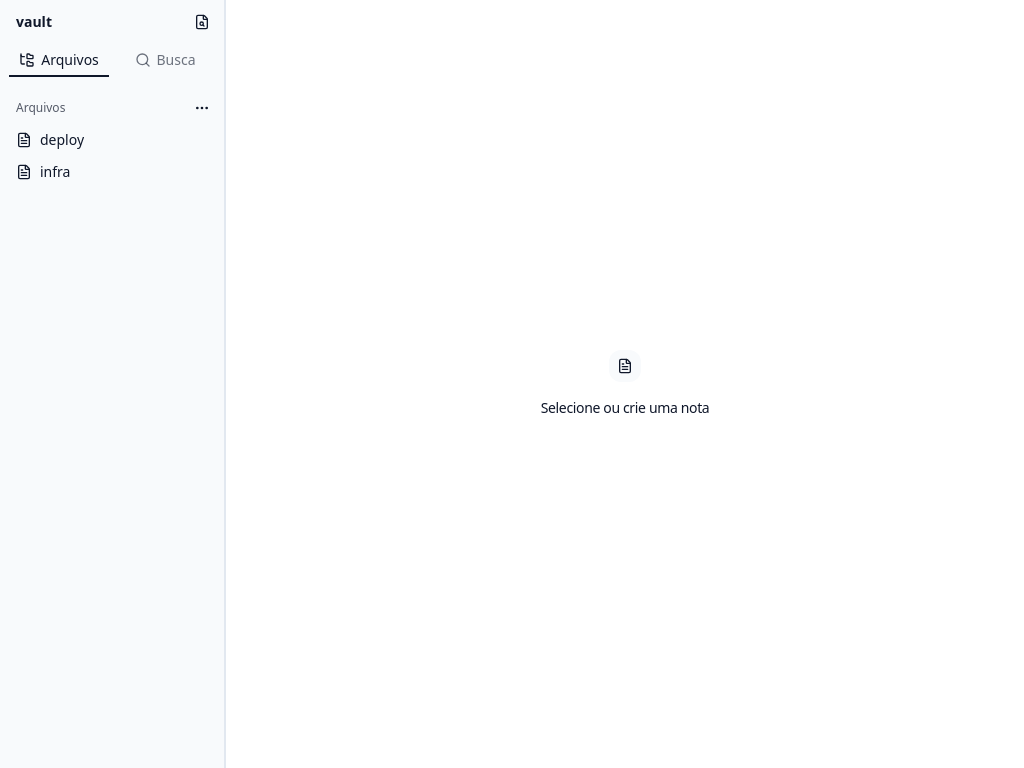
Scenario: busca rápida no workspace › o botão abre a busca rápida e mostra o atalho
This screenshot has width=1024, height=768.
Expected: the navigation bar named "Arquivos do vault" is shown, [8,124,216,188]
Hover over the button named "Abrir nota pelo nome" at (202, 22), box [188,8,216,36]
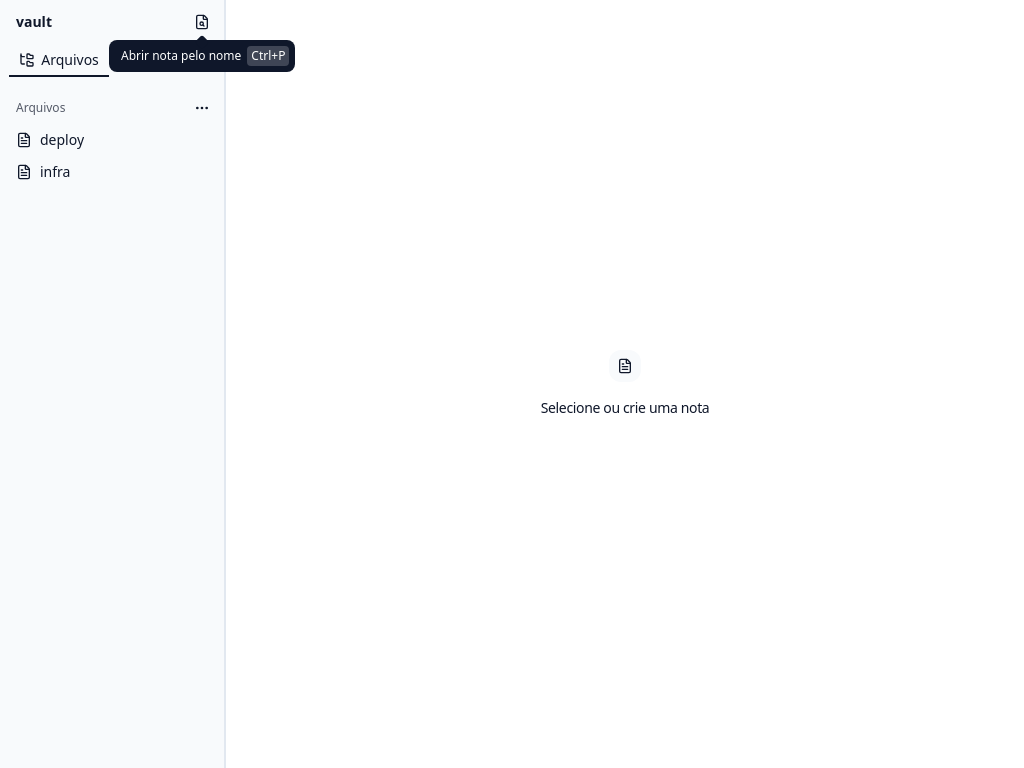
Expected: the text "Ctrl+P" is shown, [247,46,289,66]
Click the button named "Abrir nota pelo nome" at (202, 22), box [188,8,216,36]
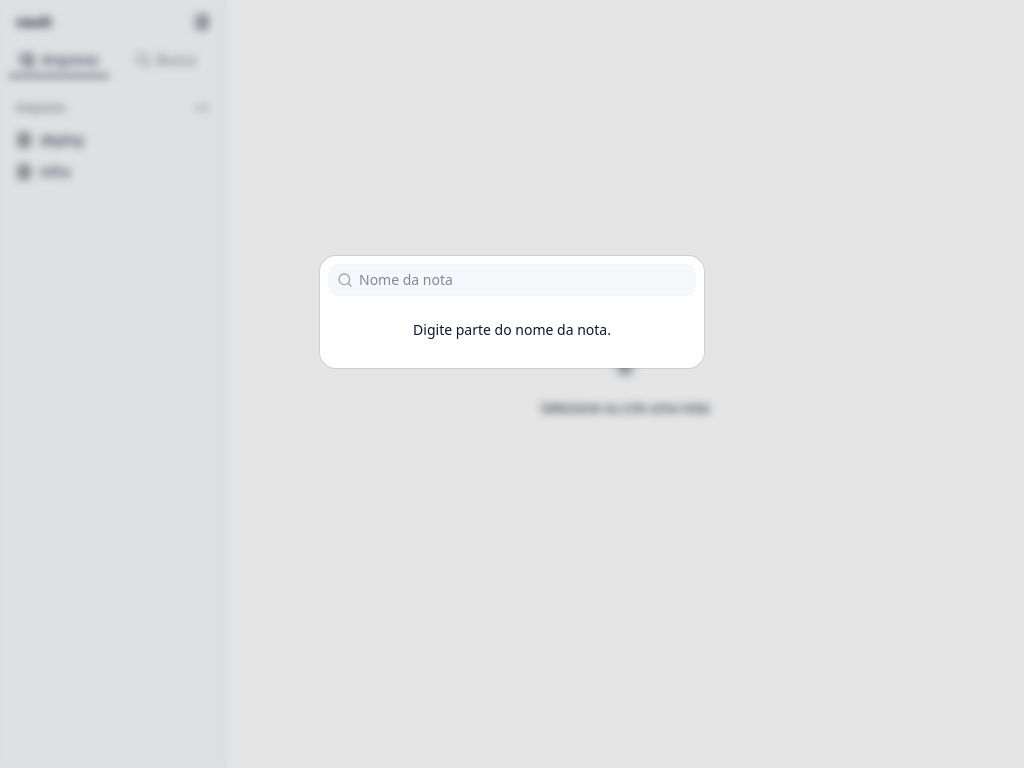
Expected: the dropdown with placeholder "Nome da nota" is shown, [353,270,695,290]
